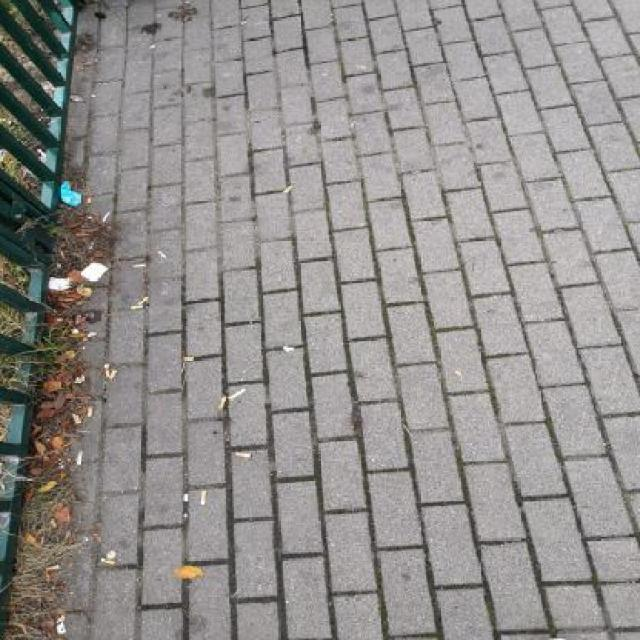Garbage: (79, 262, 109, 282), (59, 180, 82, 206), (47, 276, 72, 290), (225, 388, 248, 402), (56, 620, 69, 634), (216, 394, 227, 410), (44, 563, 61, 572), (98, 558, 116, 566), (197, 490, 206, 505), (100, 210, 111, 222), (233, 452, 255, 458), (135, 296, 151, 304), (155, 249, 167, 259), (181, 354, 195, 362), (281, 184, 293, 193), (282, 347, 299, 353), (102, 364, 109, 378), (76, 452, 83, 466), (109, 370, 118, 380), (181, 492, 189, 502), (129, 304, 143, 309), (133, 264, 147, 268), (86, 408, 91, 416)
